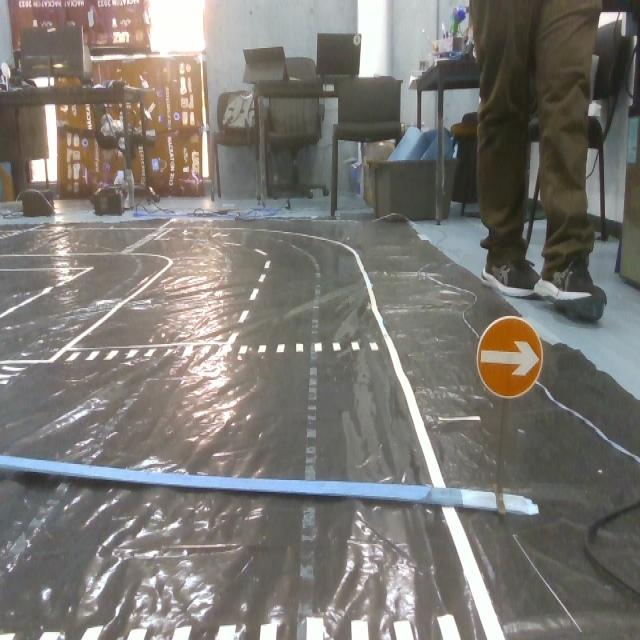left_turn: (474, 312, 544, 404)
